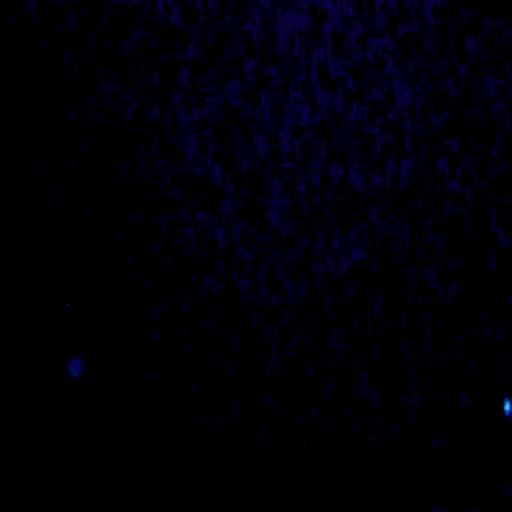object-detection-project: (503, 396, 512, 418)
